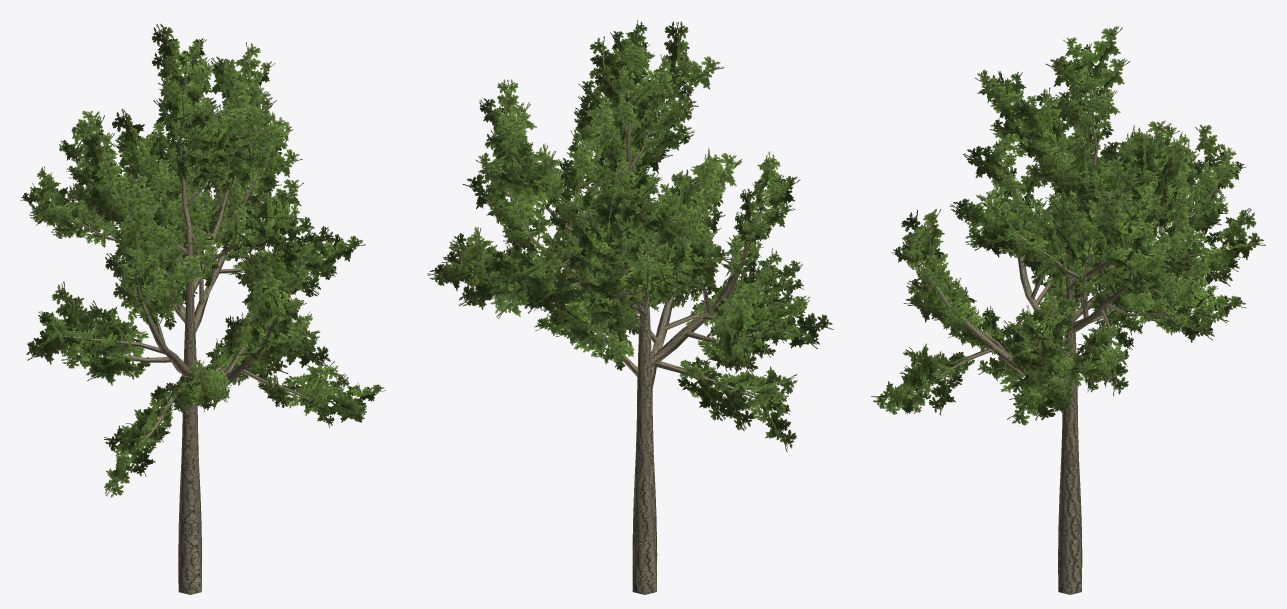
Rendered from ez-oak-01-near.glb.
3 views of the same model, side by side, from view 1: azimuth 30°, elevation 25°; view 2: azimuth 150°, elevation 25°; view 3: azimuth 270°, elevation 25° (orthographic). The views are drawn at different scales.
Visible parts, largest first — view 1: leaves, branches; view 2: leaves, branches; view 3: leaves, branches.
Boxes of the visible parts, left/top/right/bottom form: leaves: left=20, top=23, right=385, bottom=497; branches: left=48, top=66, right=333, bottom=594; leaves: left=427, top=20, right=833, bottom=451; branches: left=477, top=65, right=781, bottom=594; leaves: left=871, top=26, right=1265, bottom=425; branches: left=909, top=66, right=1219, bottom=594.
Bounding box in the file's own units: 44.2 × 65.46 × 42.17.
2 materials, 2 textured.
